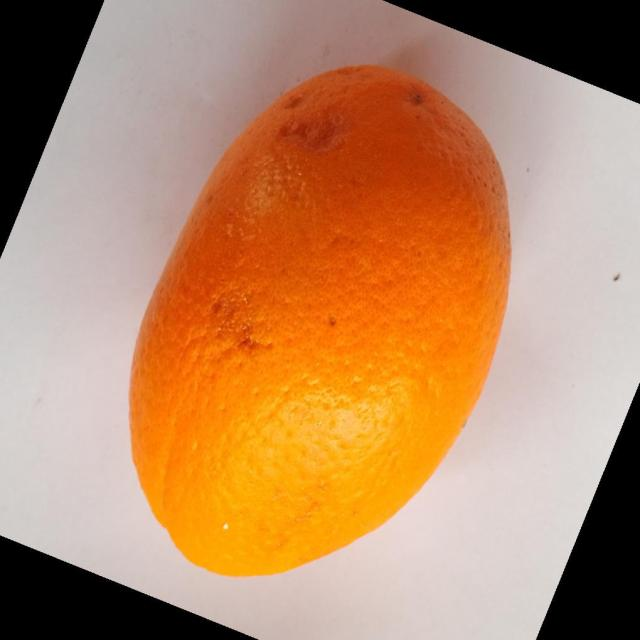fresh orange: (126, 62, 512, 578)
